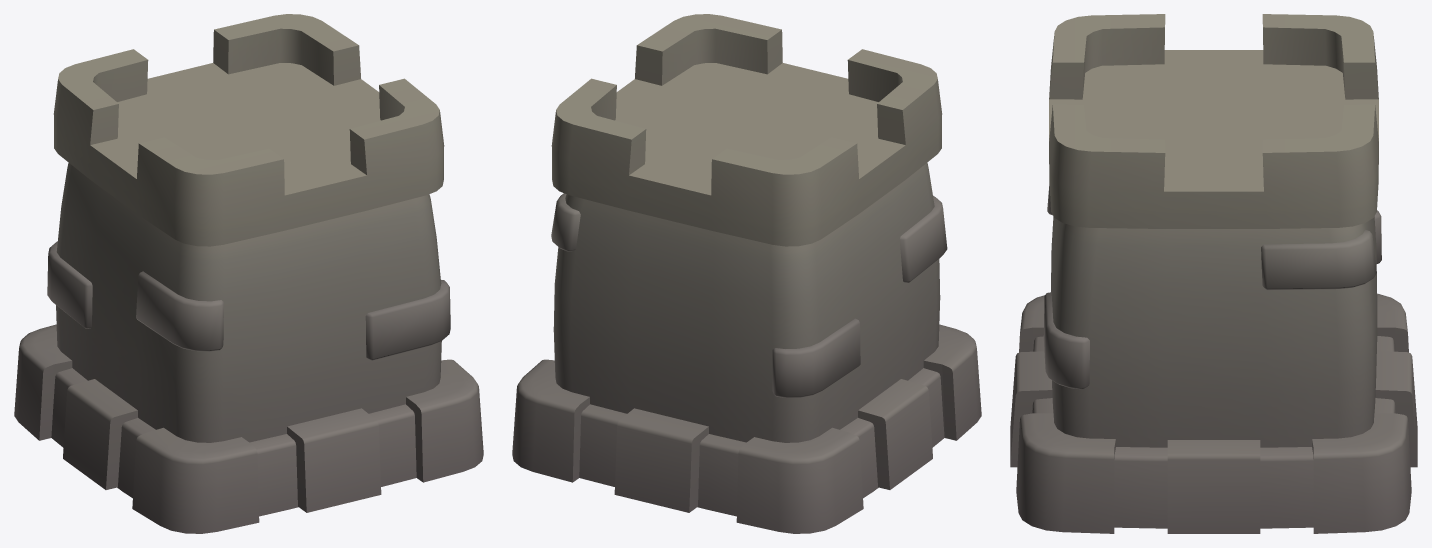
File: mageTower_lvl3.fbx
3 views of the same model, side by side, from view 1: azimuth 30°, elevation 25°; view 2: azimuth 150°, elevation 25°; view 3: azimuth 270°, elevation 25° (orthographic). The views are drawn at different scales.
Visible parts, largest first — view 1: mageTower_lvl3; view 2: mageTower_lvl3; view 3: mageTower_lvl3.
Part boxes in pixels (left/top/right/bottom): mageTower_lvl3: left=14, top=14, right=483, bottom=533; mageTower_lvl3: left=512, top=14, right=981, bottom=533; mageTower_lvl3: left=1010, top=14, right=1417, bottom=533.
Bounding box in the file's own units: 174 × 172 × 174.
